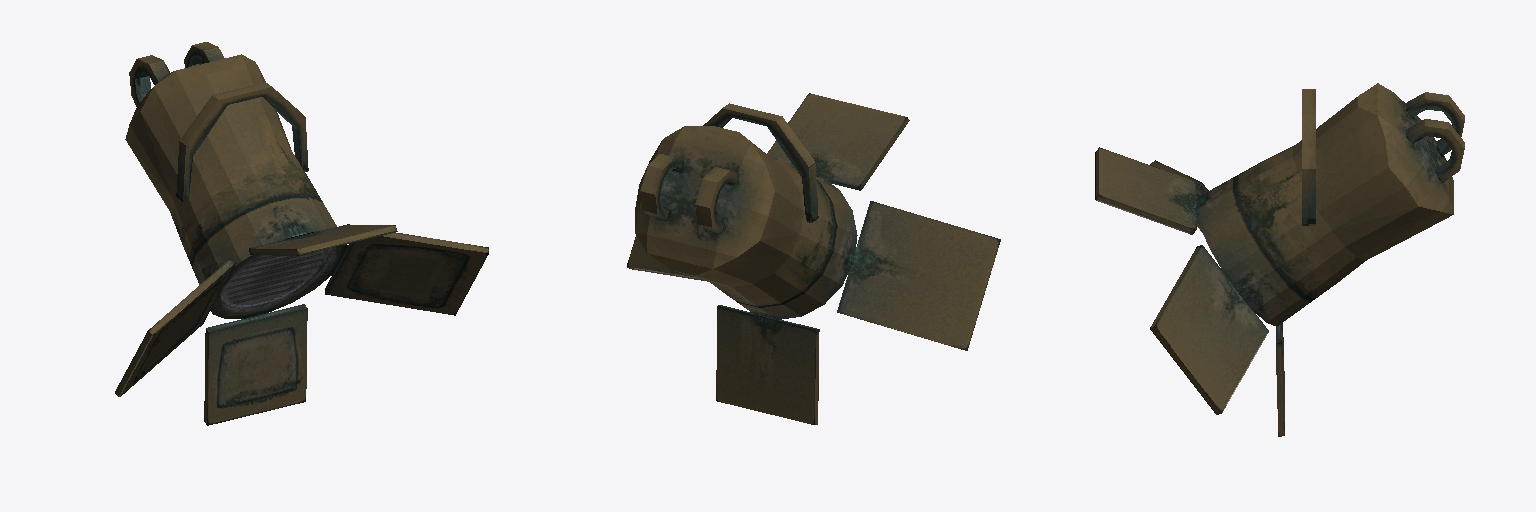
The picture shows the model from 3 angles: view 1: azimuth 30°, elevation 25°; view 2: azimuth 150°, elevation 25°; view 3: azimuth 270°, elevation 25°; orthographic projection.
Visible parts, largest first — view 1: Theater_Light_Illum; view 2: Theater_Light_Illum; view 3: Theater_Light_Illum.
Boxes of the visible parts, x1=… form: Theater_Light_Illum: x1=115, y1=42, x2=488, y2=425; Theater_Light_Illum: x1=627, y1=93, x2=1000, y2=424; Theater_Light_Illum: x1=1095, y1=83, x2=1464, y2=436.
Size of the model in its own units: 72.91 by 64.23 by 68.34.
1 materials, 1 textured.